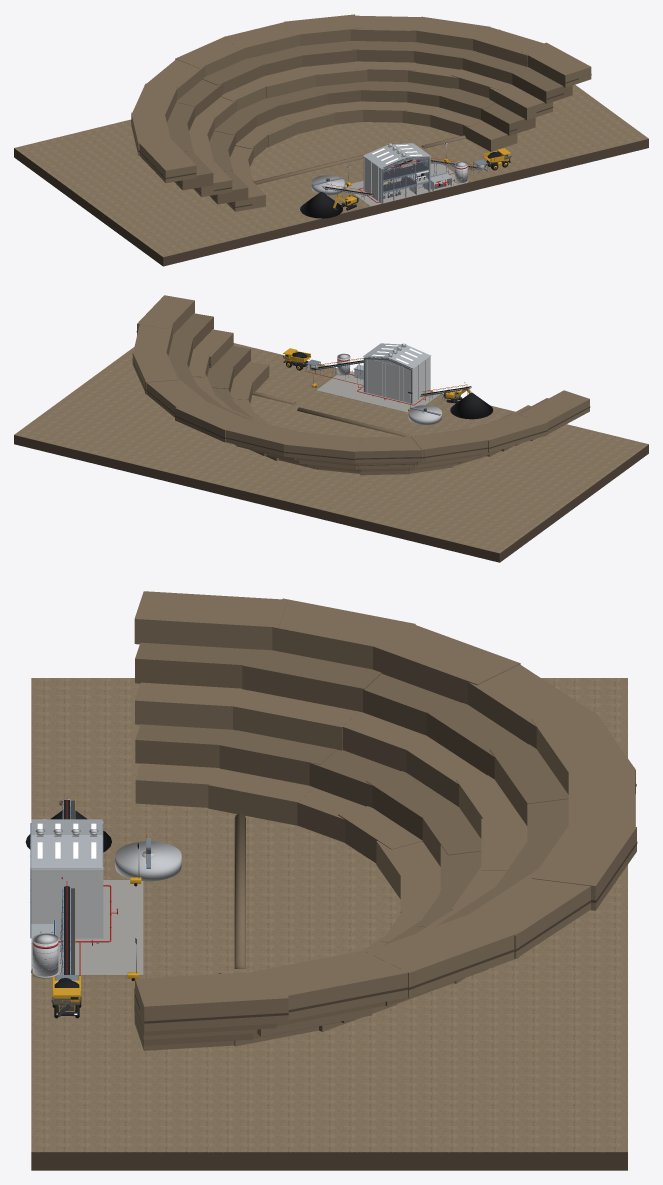
Rendered from mine.glb.
3 renders of one model, top to bottom at view 1: azimuth 30°, elevation 25°; view 2: azimuth 150°, elevation 25°; view 3: azimuth 270°, elevation 25°, orthographic. The views are drawn at different scales.
Visible parts, largest first — view 1: land, site, yard_process, frame, slab, machines, process; view 2: site, land, slab, yard_process, machines; view 3: site, land, slab, yard_process, process, machines, fire_tank.
Boxes of the visible parts, bbox=[...] form: land: bbox=[131, 14, 591, 211]; site: bbox=[14, 29, 648, 266]; yard_process: bbox=[300, 159, 488, 218]; frame: bbox=[382, 156, 430, 203]; slab: bbox=[363, 156, 430, 203]; machines: bbox=[333, 148, 511, 210]; process: bbox=[371, 157, 482, 198]; site: bbox=[14, 343, 648, 562]; land: bbox=[132, 295, 590, 475]; slab: bbox=[363, 356, 430, 403]; yard_process: bbox=[305, 359, 493, 425]; machines: bbox=[283, 348, 471, 403]; site: bbox=[31, 678, 627, 1170]; land: bbox=[134, 591, 637, 1050]; slab: bbox=[31, 822, 103, 938]; yard_process: bbox=[25, 797, 181, 980]; process: bbox=[60, 883, 75, 974]; machines: bbox=[43, 818, 81, 1018]; fire_tank: bbox=[32, 933, 58, 976].
Size of the model in its own units: 220 by 29.32 by 120.
55 materials, 4 textured.
